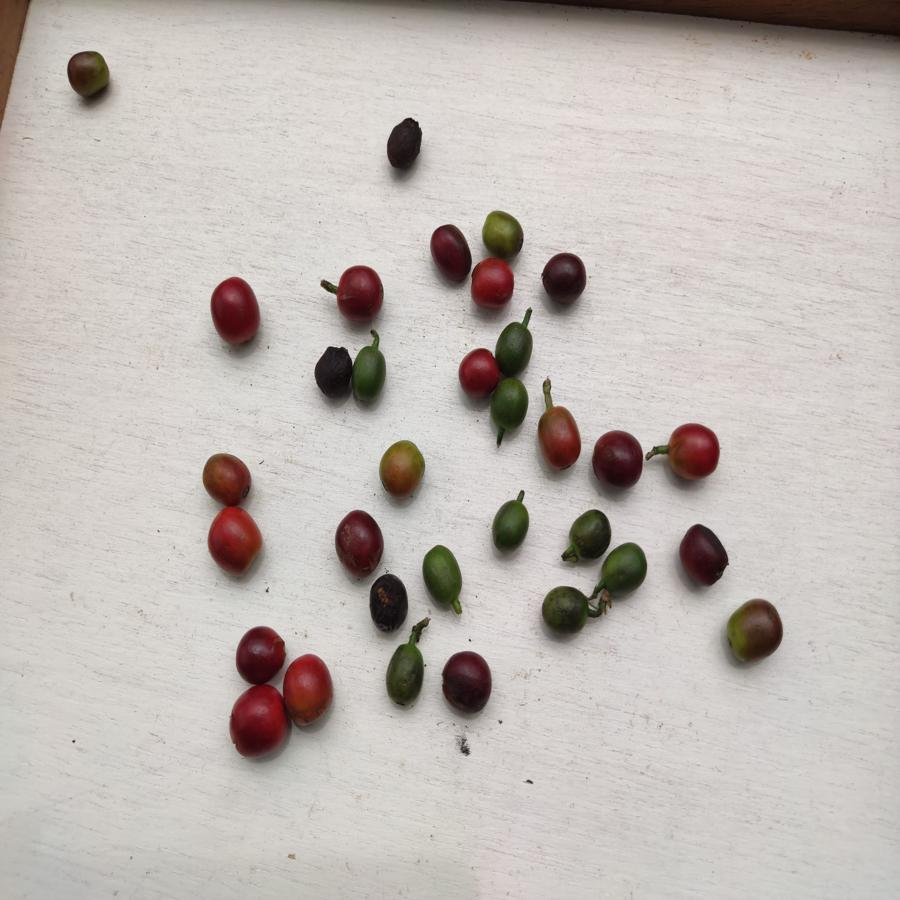Inmaduro: (384, 641, 427, 708), (420, 544, 465, 606), (600, 541, 650, 593), (541, 585, 590, 634), (491, 500, 534, 554), (569, 508, 611, 559), (351, 345, 388, 401), (495, 322, 533, 376), (492, 378, 531, 430)
Maduro: (226, 683, 292, 756), (204, 504, 264, 577), (210, 275, 264, 352), (663, 422, 722, 485), (285, 654, 335, 726), (334, 264, 385, 323), (470, 258, 516, 311), (459, 347, 495, 401)
Pinton: (726, 599, 787, 668), (377, 438, 429, 502), (538, 404, 582, 473), (198, 454, 256, 502), (65, 47, 112, 103), (482, 209, 526, 260)
Sobremaduro: (332, 508, 384, 576), (677, 523, 730, 588), (442, 651, 493, 714), (592, 430, 645, 488), (234, 624, 285, 684), (539, 250, 587, 305), (428, 224, 473, 280), (368, 572, 410, 631), (313, 344, 352, 403), (385, 119, 422, 169)
